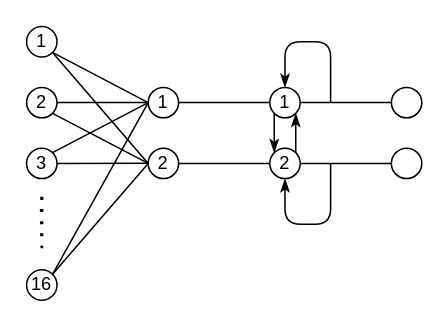
Some shapes in this 448 by 327 pixel diagram are drawn without their labels. Each missing label, with the box of its shape:
y 1: (390, 86, 422, 118)
y 2: (390, 147, 422, 179)
